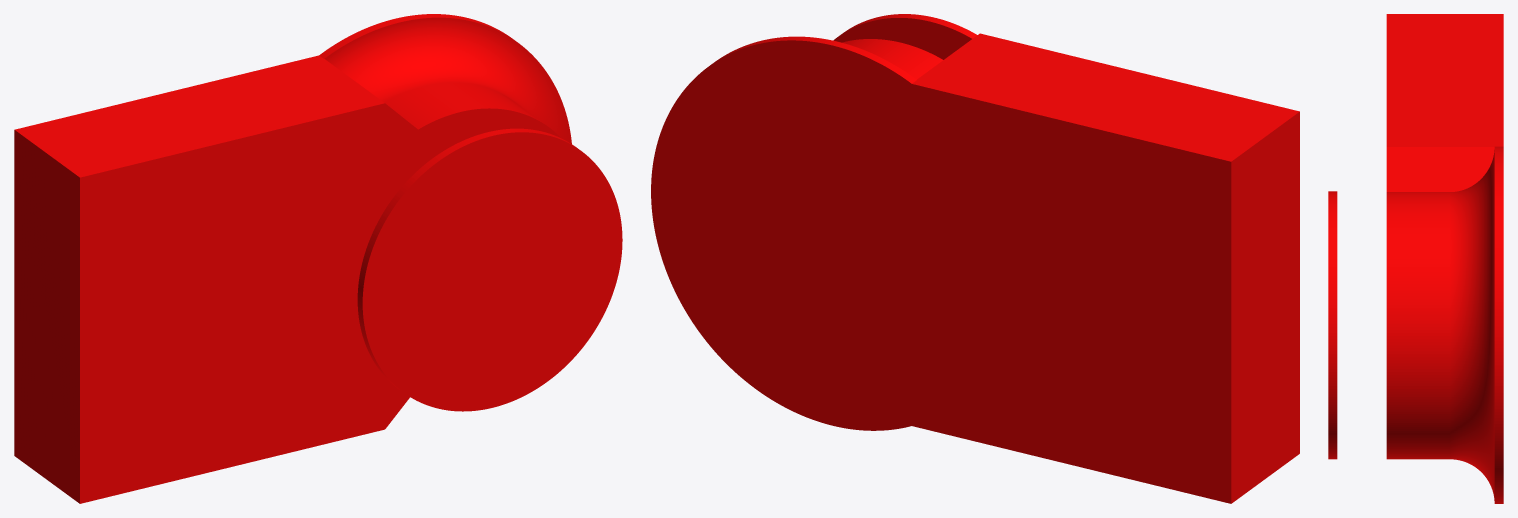
3 renders of one model, left to right at view 1: azimuth 30°, elevation 25°; view 2: azimuth 150°, elevation 25°; view 3: azimuth 270°, elevation 25°, orthographic. The views are drawn at different scales.
Visible parts, largest first — view 1: base_0.glb; view 2: base_0.glb; view 3: base_0.glb.
Part boxes in pixels (left/top/right/bottom): base_0.glb: left=14, top=14, right=622, bottom=503; base_0.glb: left=651, top=14, right=1299, bottom=503; base_0.glb: left=1328, top=14, right=1503, bottom=503.
Size of the model in its own units: 319 by 200 by 98.
